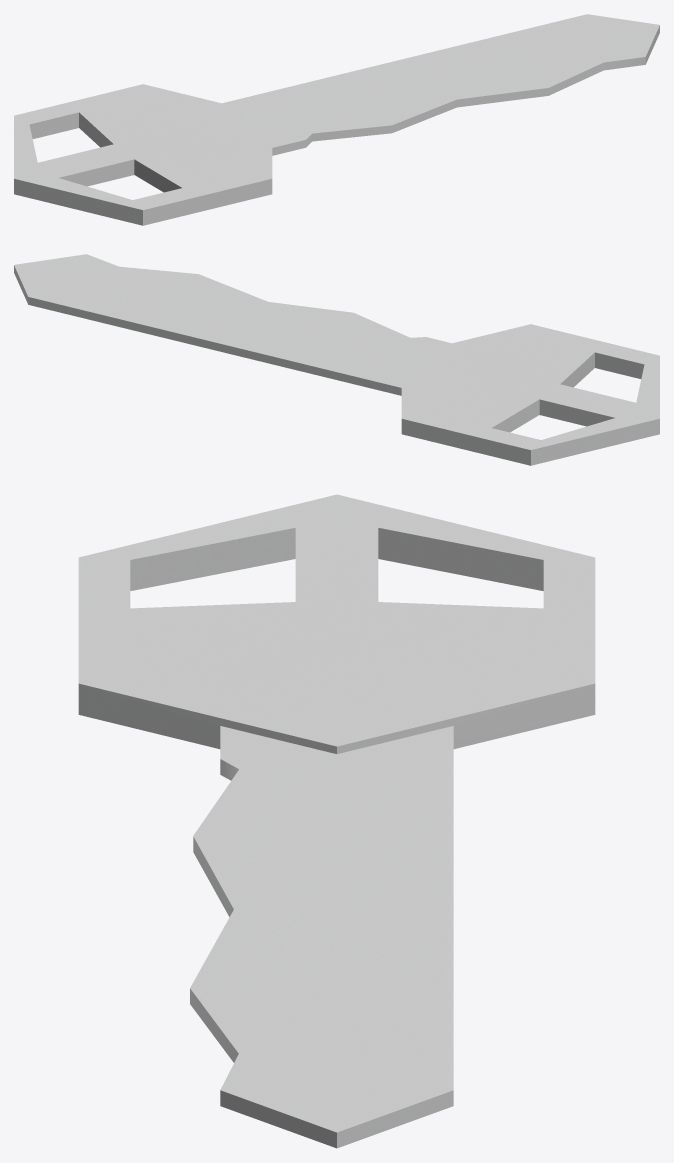
The model's file is Props_Key-Silver.fbx.
The picture shows the model from 3 angles, top to bottom: view 1: azimuth 30°, elevation 25°; view 2: azimuth 150°, elevation 25°; view 3: azimuth 270°, elevation 25°; orthographic projection. The views are drawn at different scales.
Parts seen in each view (by area): view 1: Silver_Key; view 2: Silver_Key; view 3: Silver_Key.
Part boxes in pixels (x1,y1,x2,y2): Silver_Key: [14, 14, 659, 225]; Silver_Key: [14, 254, 659, 465]; Silver_Key: [78, 494, 595, 1148].
Size of the model in its own units: 8.66 by 0.2 by 3.
Materials: 1 (1 with a texture image).
